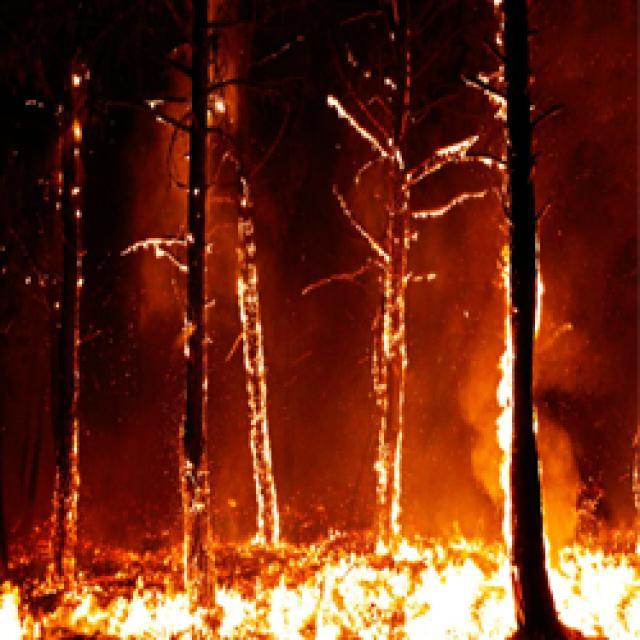Fire: (0, 583, 368, 640), (368, 532, 514, 640), (233, 249, 286, 532), (497, 244, 545, 536), (115, 532, 368, 582), (542, 540, 640, 640), (374, 247, 408, 535), (406, 137, 509, 220), (0, 522, 113, 584), (332, 94, 403, 168), (173, 424, 212, 534), (48, 424, 82, 522), (128, 232, 194, 278), (474, 63, 506, 122), (234, 172, 259, 244), (486, 0, 510, 50), (69, 117, 87, 152)
Smoke: (408, 219, 496, 533), (543, 0, 576, 554)
